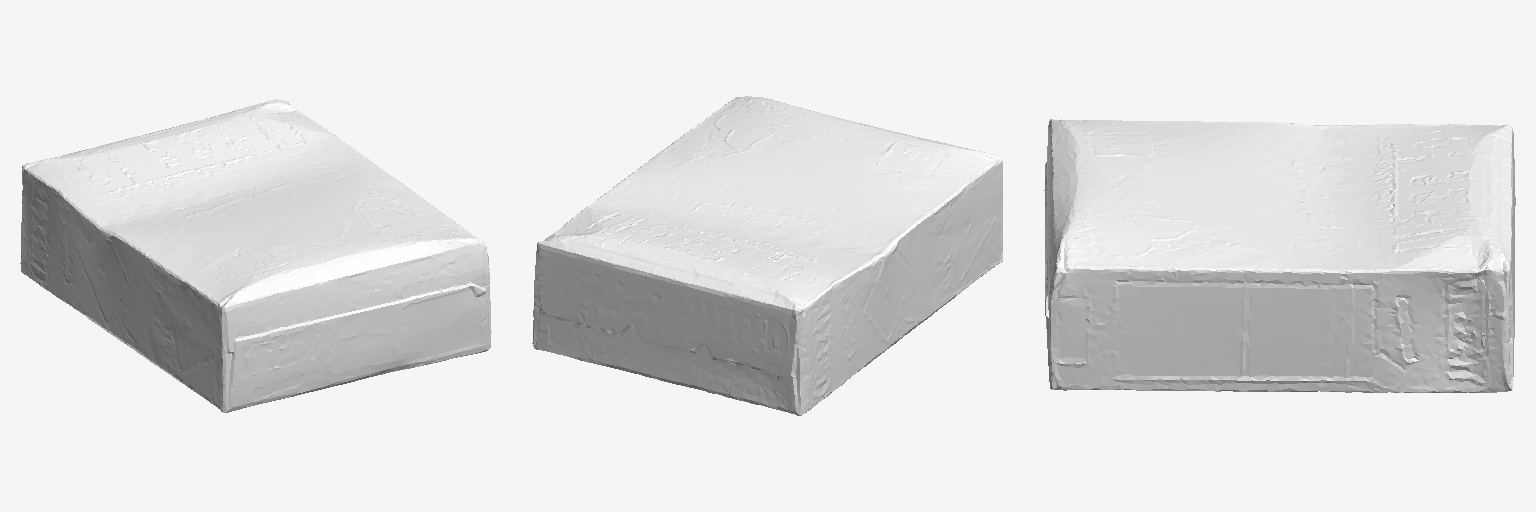
The robot description file, URDF, robot "cracker_box_flipped":
<robot name="cracker_box_flipped">
    <link name="base_link">
        <visual>
            <origin xyz="0.01420505447388014 -0.10220486833098277 0.01485355781018036" rpy="0.0 0.0 0.0" />
            <geometry>
                <mesh filename="cracker_box_flipped/textured.obj" scale="1 1 1" />
            </geometry>
            <material name="texture">
                <color rgba="1.0 1.0 1.0 1.0" />
            </material>
        </visual>
        <collision>
            <origin xyz="0.01420505447388014 -0.10220486833098277 0.01485355781018036" rpy="0.0 0.0 0.0" />
            <geometry>
                <mesh filename="cracker_box_flipped/textured_vhacd.stl" scale="1 1 1" />
            </geometry>
        </collision>
        <inertial>
            <mass value="1.0" />
            <inertia ixx="1e-3" ixy="0.0" ixz="0.0" iyy="1e-3" iyz="0.0" izz="1e-3" />
        </inertial>
    </link>
</robot>

--- What the picture shows (computed from the rendered views, not written in the file) ---
The picture shows the robot from 3 angles, left to right: view 1: azimuth 30°, elevation 25°; view 2: azimuth 150°, elevation 25°; view 3: azimuth 270°, elevation 25°; orthographic projection.
Robot: cracker_box_flipped — 1 links, 0 joints (none); root link base_link; default pose: every joint at zero.
Links seen in each view (by area): view 1: base_link; view 2: base_link; view 3: base_link.
Link boxes in pixels (x1,y1,x2,y2): base_link: (20, 99, 491, 412); base_link: (532, 96, 1002, 415); base_link: (1044, 119, 1515, 392).
Size in the robot's own frame: 0.164 by 0.2134 by 0.0718 metres.
Meshes: 1 distinct files referenced, 1 mesh visuals loaded (1 OBJ).
